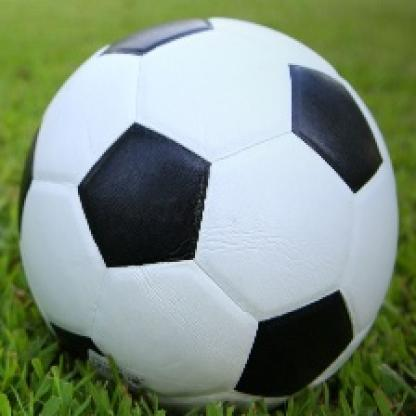ball: (13, 15, 399, 408)
